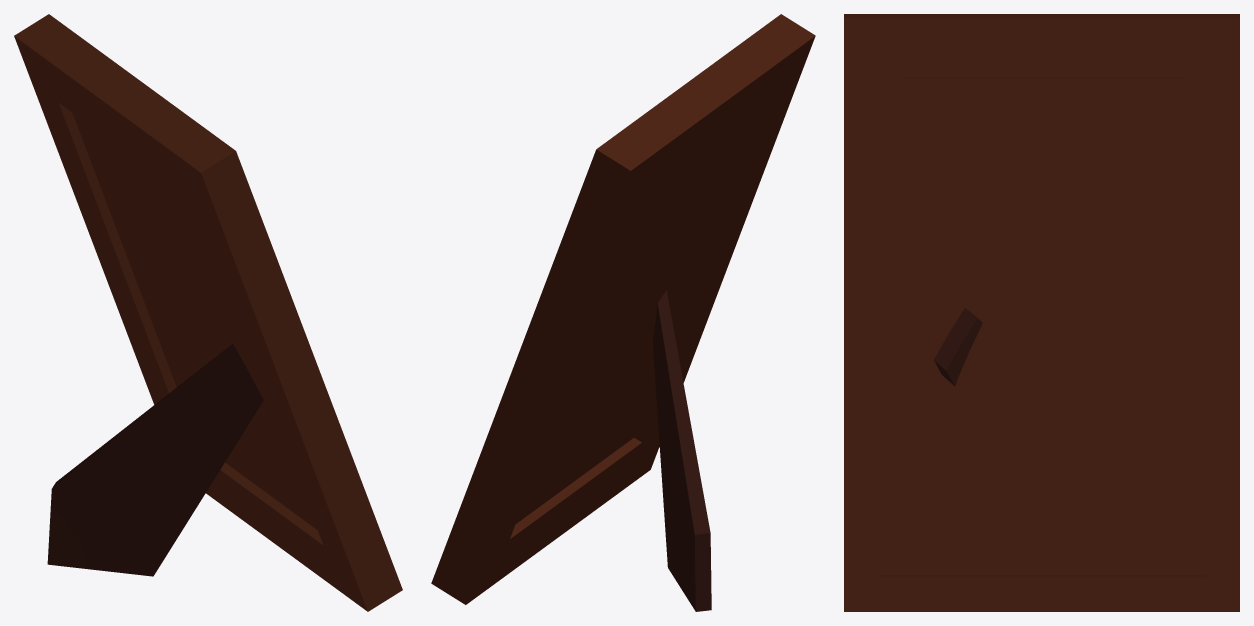
File: PetitCadreBureau_Contour.fbx
3 views of the same model, side by side, from view 1: azimuth 30°, elevation 25°; view 2: azimuth 150°, elevation 25°; view 3: azimuth 270°, elevation 25° (orthographic). The views are drawn at different scales.
Parts seen in each view (by area): view 1: PetitCadreBureau_Contour; view 2: PetitCadreBureau_Contour; view 3: PetitCadreBureau_Contour.
Part boxes in pixels (x1,y1,x2,y2): PetitCadreBureau_Contour: [14, 14, 402, 611]; PetitCadreBureau_Contour: [431, 14, 815, 611]; PetitCadreBureau_Contour: [844, 14, 1239, 611].
Size of the model in its own units: 19.76 by 41.28 by 28.33.
